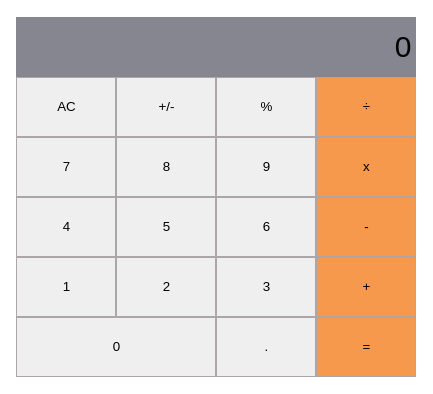
it: should show the result of the operation
The image size is (433, 394).
Click the button "5".
click(166, 227)  # box [116,197,216,257]
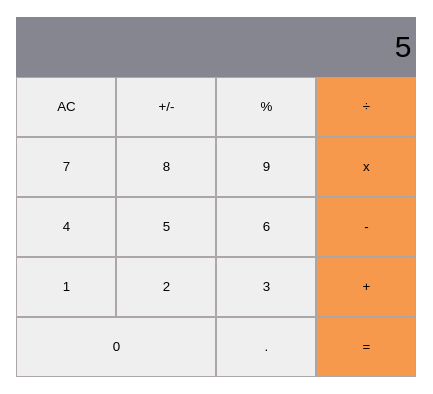
Click the button "+".
click(366, 287)  # box [316,257,416,317]
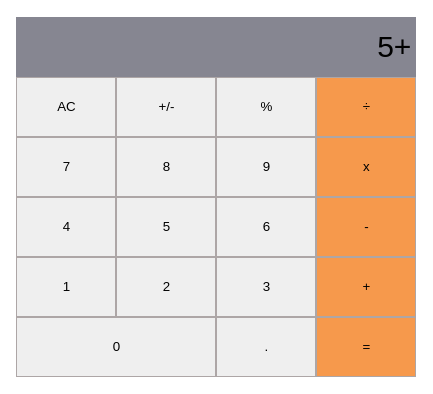
Click the button "9".
click(266, 167)  # box [216,137,316,197]
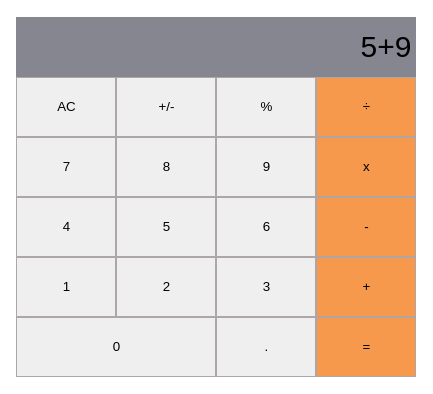
Click the button "=".
click(366, 347)  # box [316,317,416,377]
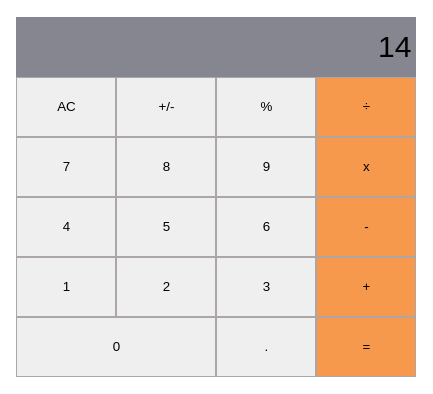
Expected: the field with class "calInput" holds "14", [16,17,416,77]
